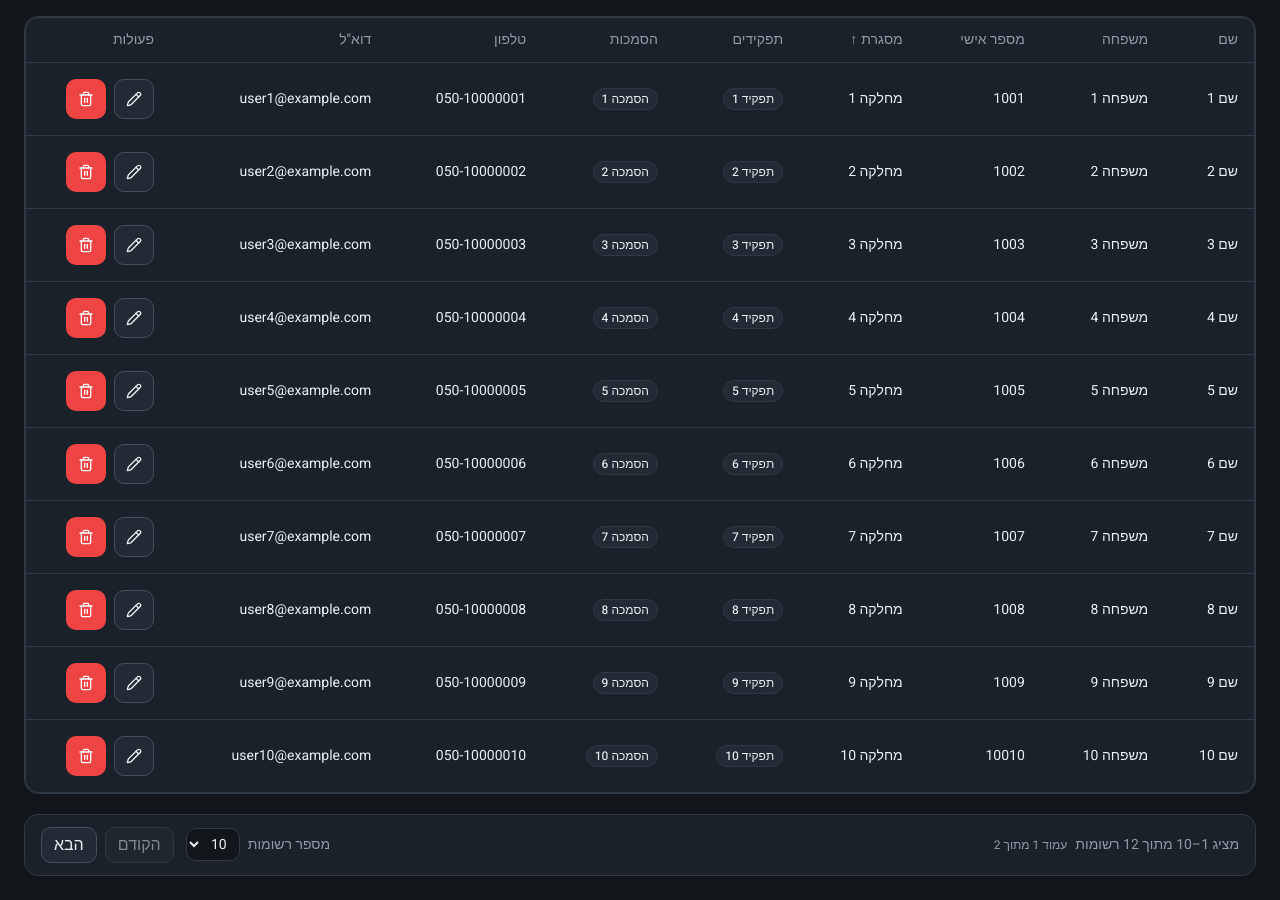
Test: UsersPage › disables the previous button on the first page and the next button on the last page
(page scrolled)
Expected: the button "הקודם" is disabled, x1=105 y1=826 x2=174 y2=862
Click the button "הבא": (69, 844) x1=41 y1=826 x2=97 y2=862
(page scrolled)
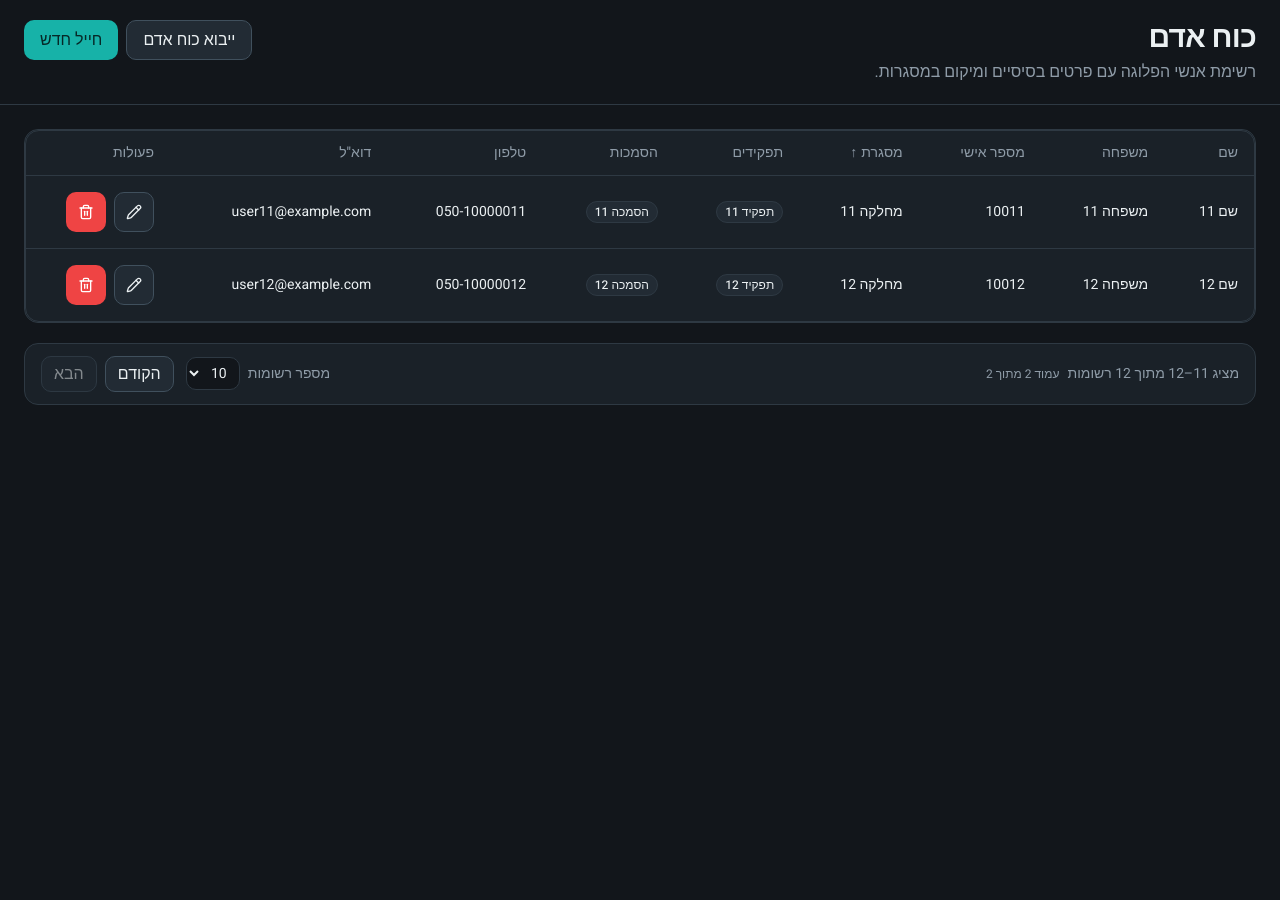
Result: the button "הקודם" is enabled at x1=105 y1=356 x2=174 y2=392
Result: the button "הבא" is disabled at x1=41 y1=356 x2=97 y2=392
